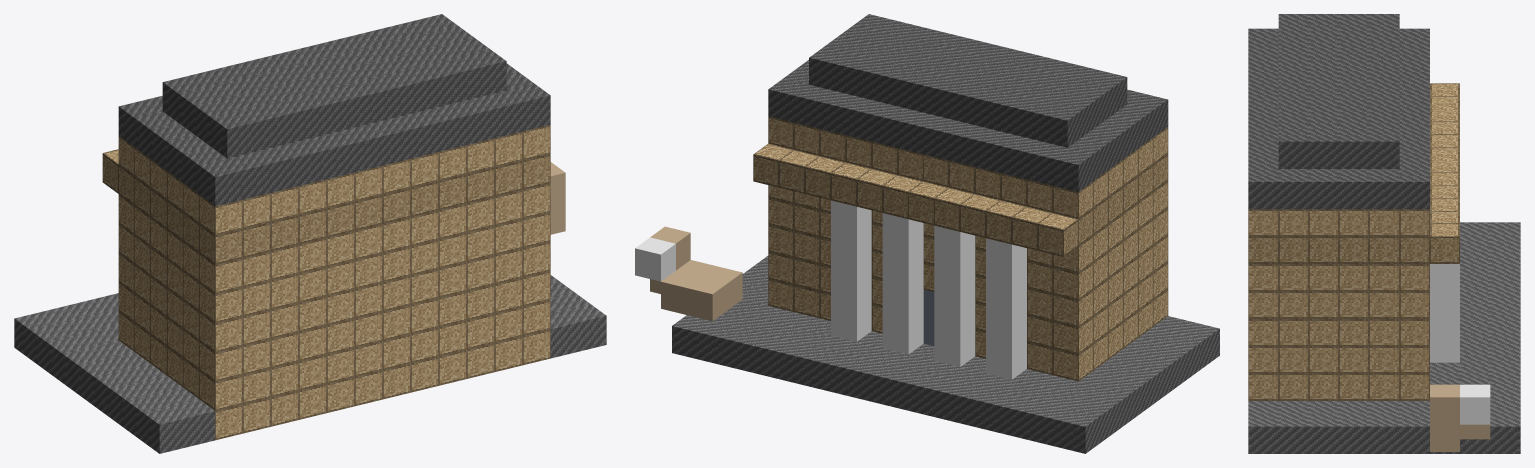
Rendered from naturhistorisches-museum.glb.
The picture shows the model from 3 angles, left to right: view 1: azimuth 30°, elevation 25°; view 2: azimuth 150°, elevation 25°; view 3: azimuth 270°, elevation 25°; orthographic projection. The views are drawn at different scales.
Parts seen in each view (by area): view 1: naturhistorisches-museum; view 2: naturhistorisches-museum; view 3: naturhistorisches-museum.
Part boxes in pixels (x1,y1,x2,y2): naturhistorisches-museum: (14,14,606,453); naturhistorisches-museum: (635,14,1219,453); naturhistorisches-museum: (1248,14,1520,453).
Bounding box in the file's own units: 18 × 10 × 9.
1 material, 1 textured.
